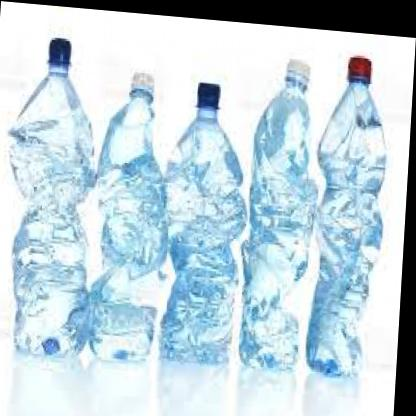Plastic: (0, 17, 109, 365), (310, 43, 398, 392), (166, 51, 256, 370), (245, 38, 320, 388), (96, 44, 175, 374)
